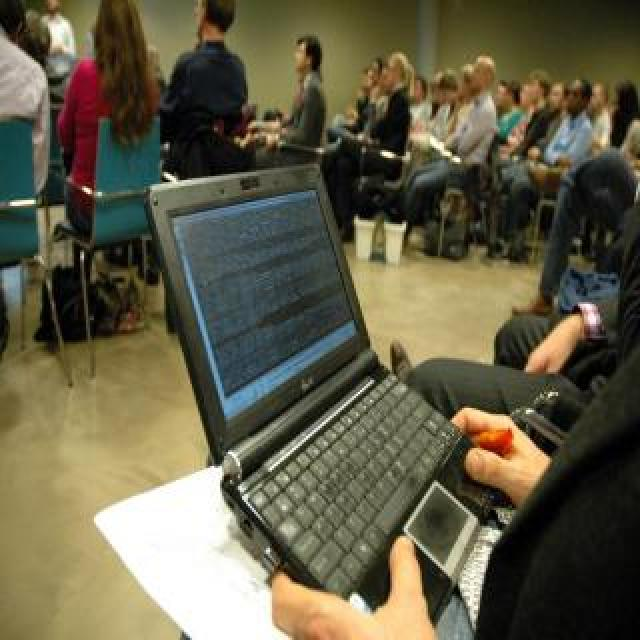laptop_computer: (125, 165, 503, 633)
